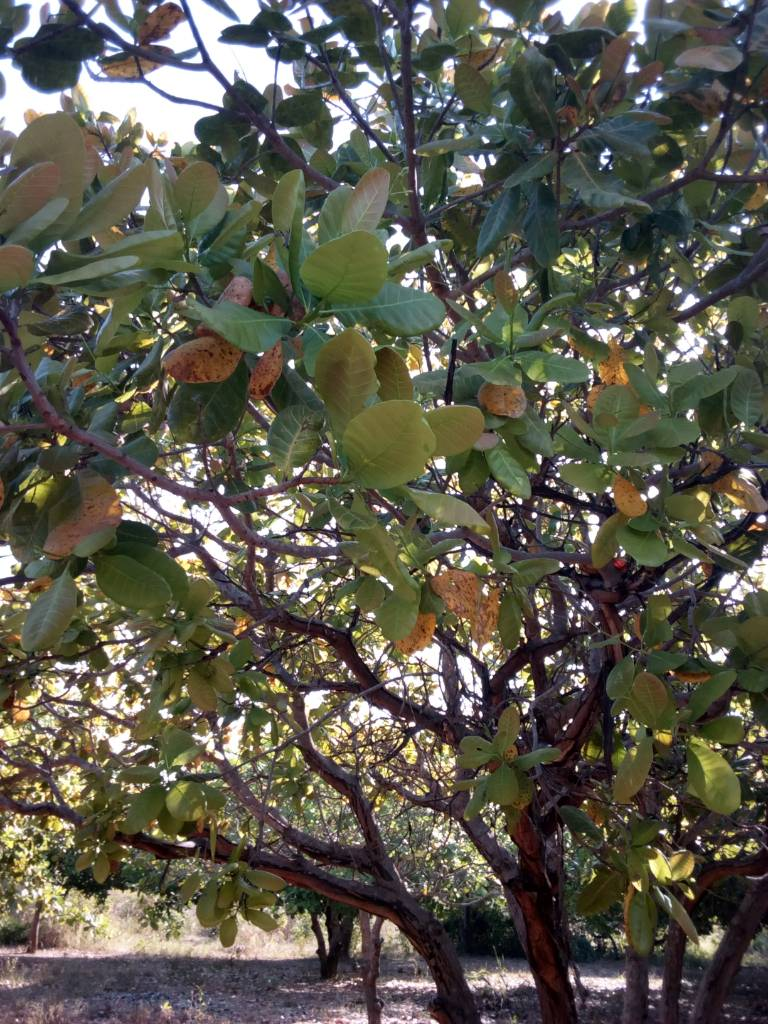Anthracnose: (430, 572, 507, 639), (160, 336, 249, 383), (474, 377, 532, 417)
